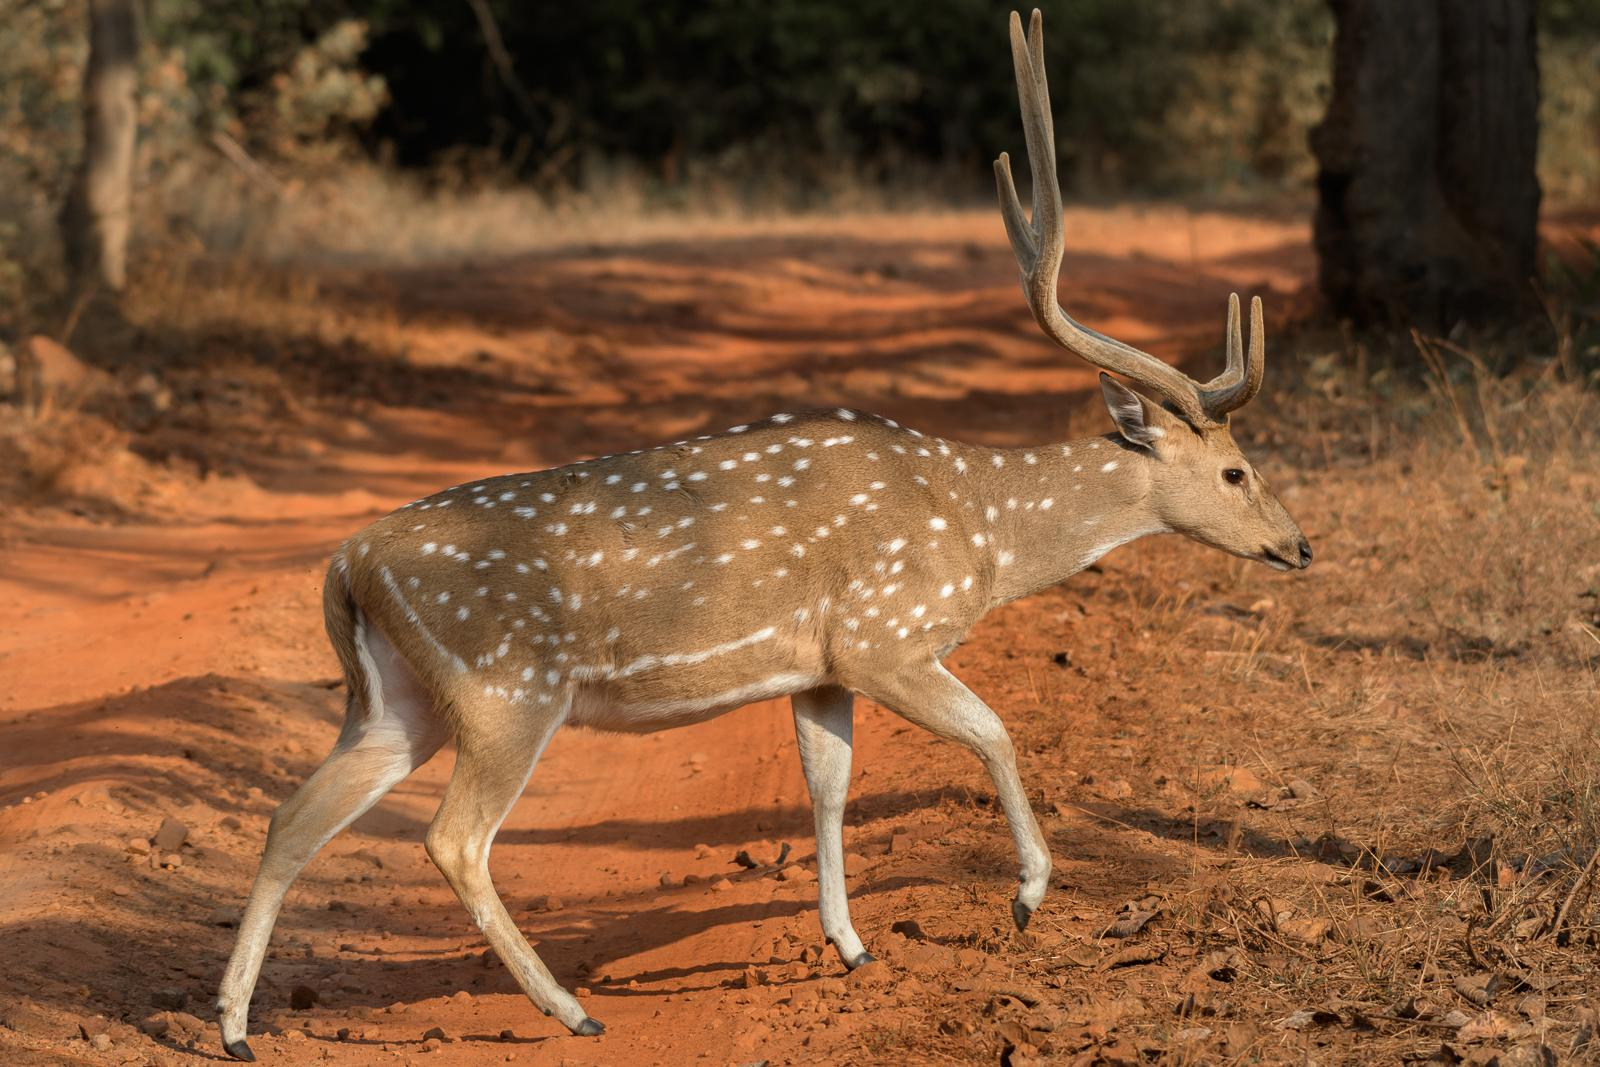Deer: (218, 10, 1311, 1057)
